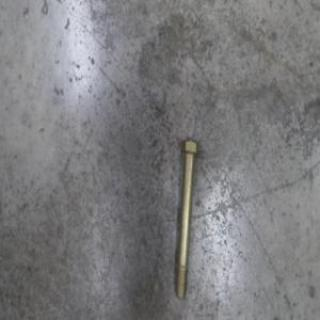Bolttrack_idkeyframe: (173, 137, 200, 300)
